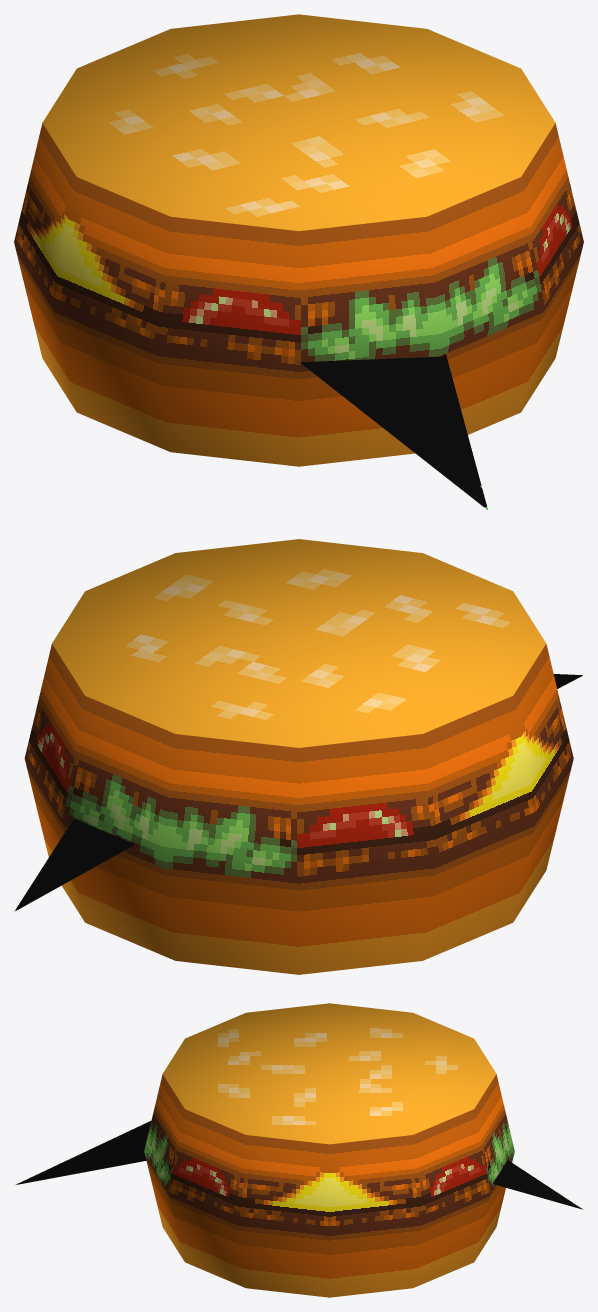
3 renders of one model, top to bottom at view 1: azimuth 30°, elevation 25°; view 2: azimuth 150°, elevation 25°; view 3: azimuth 270°, elevation 25°, orthographic. The views are drawn at different scales.
Parts seen in each view (by area): view 1: 3921kg3_dl03; view 2: 3921kg3_dl03; view 3: 3921kg3_dl03.
Part boxes in pixels (left/top/right/bottom): 3921kg3_dl03: left=14, top=14, right=583, bottom=509; 3921kg3_dl03: left=14, top=539, right=582, bottom=974; 3921kg3_dl03: left=15, top=1003, right=583, bottom=1297.
Size of the model in its own units: 0.9722 by 0.4434 by 1.49.
3 materials, 3 textured.
